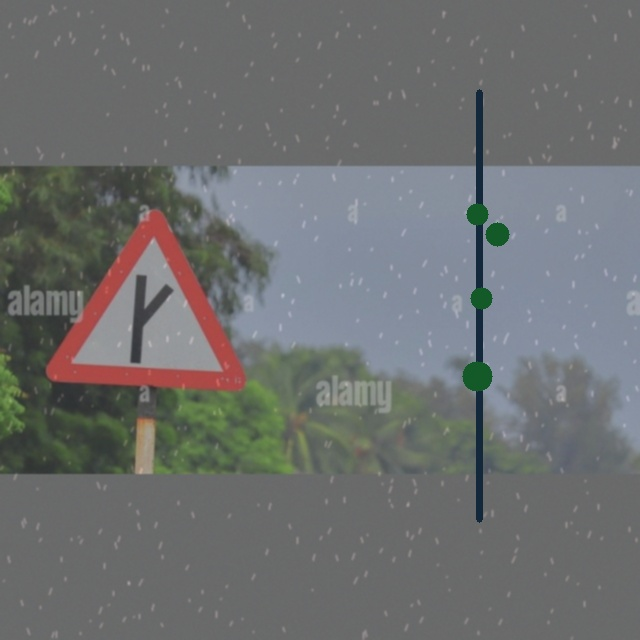Y_Intersection: (55, 204, 242, 394)
